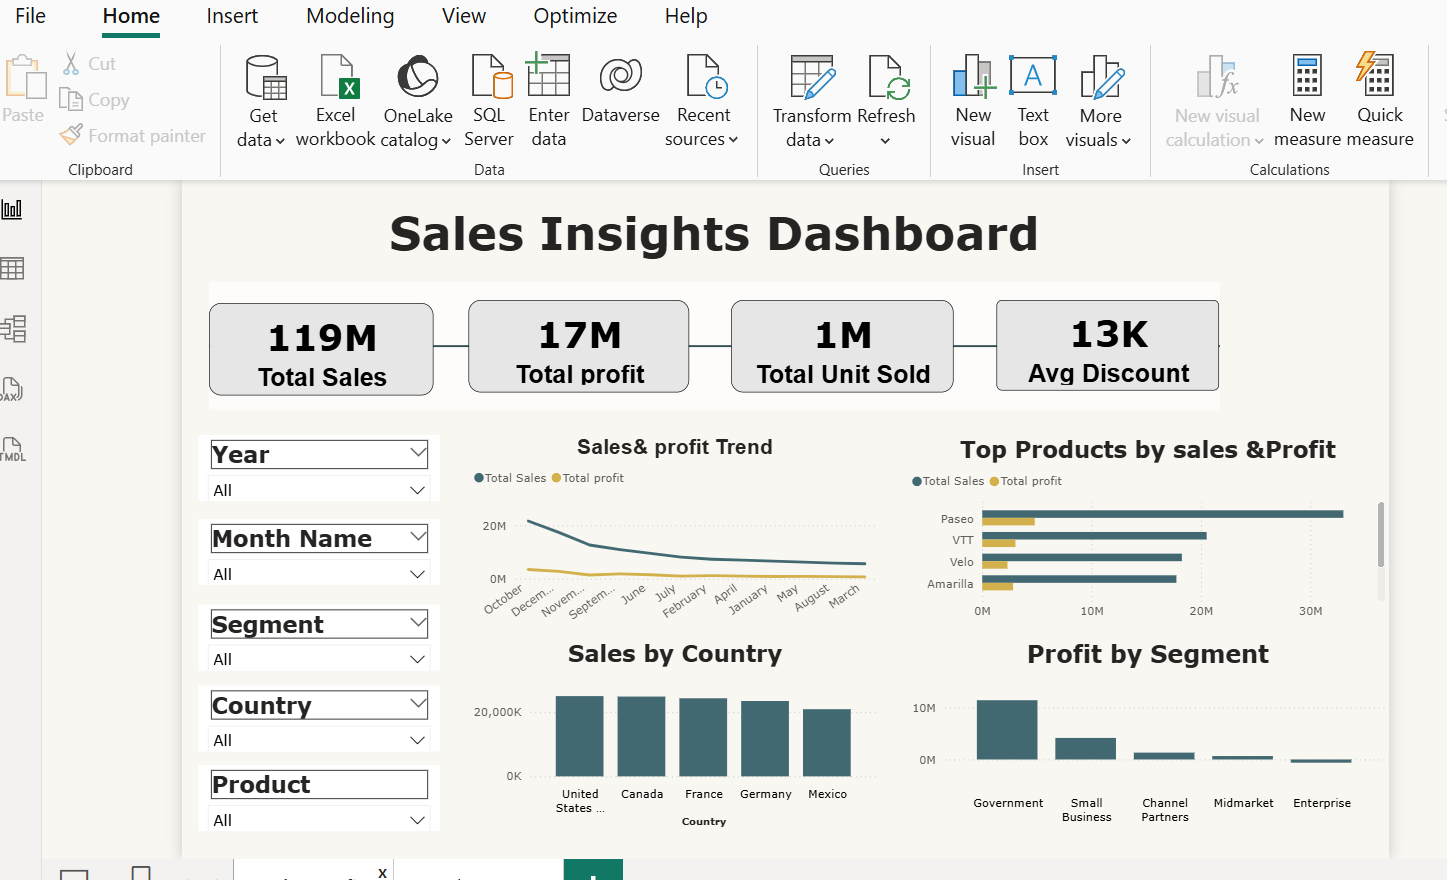

What the dashboard file says about the page in this screenshot:
{"tool":"powerbi","page":{"name":"Sales&Profit","canvas":[1280,720],"ordinal":0},"visuals":[{"type":"shape","box":[28,108,1072,136],"z":0},{"type":"card","fields":{"Values":["Table2.Average Discount"]},"box":[864,128,236,96],"z":1000},{"type":"card","fields":{"Values":["Table2.Total Sales"]},"box":[28,130,238,98],"z":2000},{"type":"card","fields":{"Values":["Table2.Total Unit Sold"]},"box":[582,128,236,98],"z":3000},{"type":"card","fields":{"Values":["Table2.Total profit"]},"box":[304,128,234,98],"z":4000},{"type":"lineChart","title":"Sales& profit Trend","fields":{"Category":["Table2.Month Name"],"Y":["Table2.Total Sales","Table2.Total profit"]},"box":[304,270,438,208],"z":5000},{"type":"columnChart","title":"Sales by Country","fields":{"Y":["Table2.Total Sales"],"Category":["Table2.Country"]},"box":[304,486,438,204],"z":6000},{"type":"columnChart","title":"Profit by Segment","fields":{"Y":["Table2.Total profit"],"Category":["Table2.Segment"]},"box":[768,486,512,204],"z":7000},{"type":"clusteredBarChart","title":"Top Products by sales &Profit","fields":{"Category":["Table2.Product"],"Y":["Table2.Total Sales","Table2.Total profit"]},"box":[768,270,512,204],"z":8000},{"type":"slicer","fields":{"Values":["Table2.Country"]},"box":[18,536,256,70],"z":8001},{"type":"slicer","fields":{"Values":["Table2.Product"]},"box":[18,620,256,70],"z":8002},{"type":"slicer","fields":{"Values":["Table2.Year"]},"box":[18,270,256,70],"z":8003},{"type":"slicer","fields":{"Values":["Table2.Month Name"]},"box":[18,360,256,70],"z":8004},{"type":"slicer","fields":{"Values":["Table2.Segment"]},"box":[18,450,256,70],"z":8005},{"type":"textbox","box":[28,20,1072,72],"z":8007}]}

Visuals, with their boxes on the page's 1280x720 design canvas (x1, y1, x2, y2). These are canvas units, not pixel positions in the 1447x880 screenshot, which may show the page scaled, cropped or inside an application window:
shape: (28,108,1100,244)
card - Table2.Average Discount: (864,128,1100,224)
card - Table2.Total Sales: (28,130,266,228)
card - Table2.Total Unit Sold: (582,128,818,226)
card - Table2.Total profit: (304,128,538,226)
"Sales& profit Trend" lineChart: (304,270,742,478)
"Sales by Country" columnChart: (304,486,742,690)
"Profit by Segment" columnChart: (768,486,1280,690)
"Top Products by sales &Profit" clusteredBarChart: (768,270,1280,474)
slicer - Table2.Country: (18,536,274,606)
slicer - Table2.Product: (18,620,274,690)
slicer - Table2.Year: (18,270,274,340)
slicer - Table2.Month Name: (18,360,274,430)
slicer - Table2.Segment: (18,450,274,520)
textbox: (28,20,1100,92)
